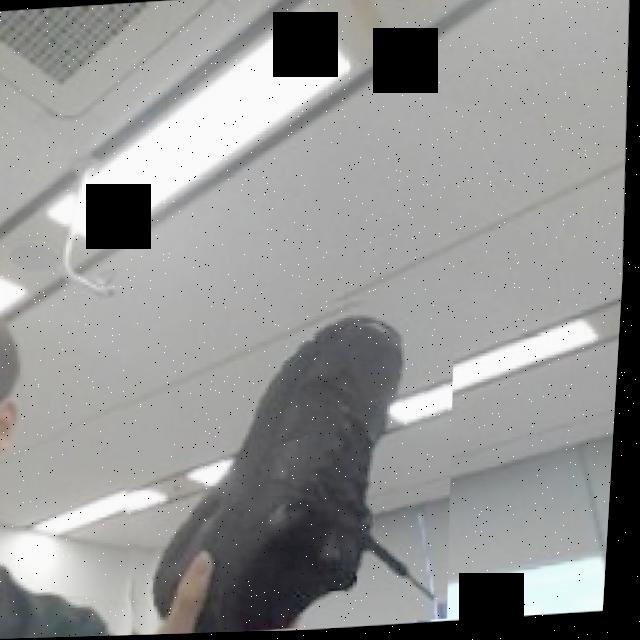shoe: (103, 285, 470, 637)
